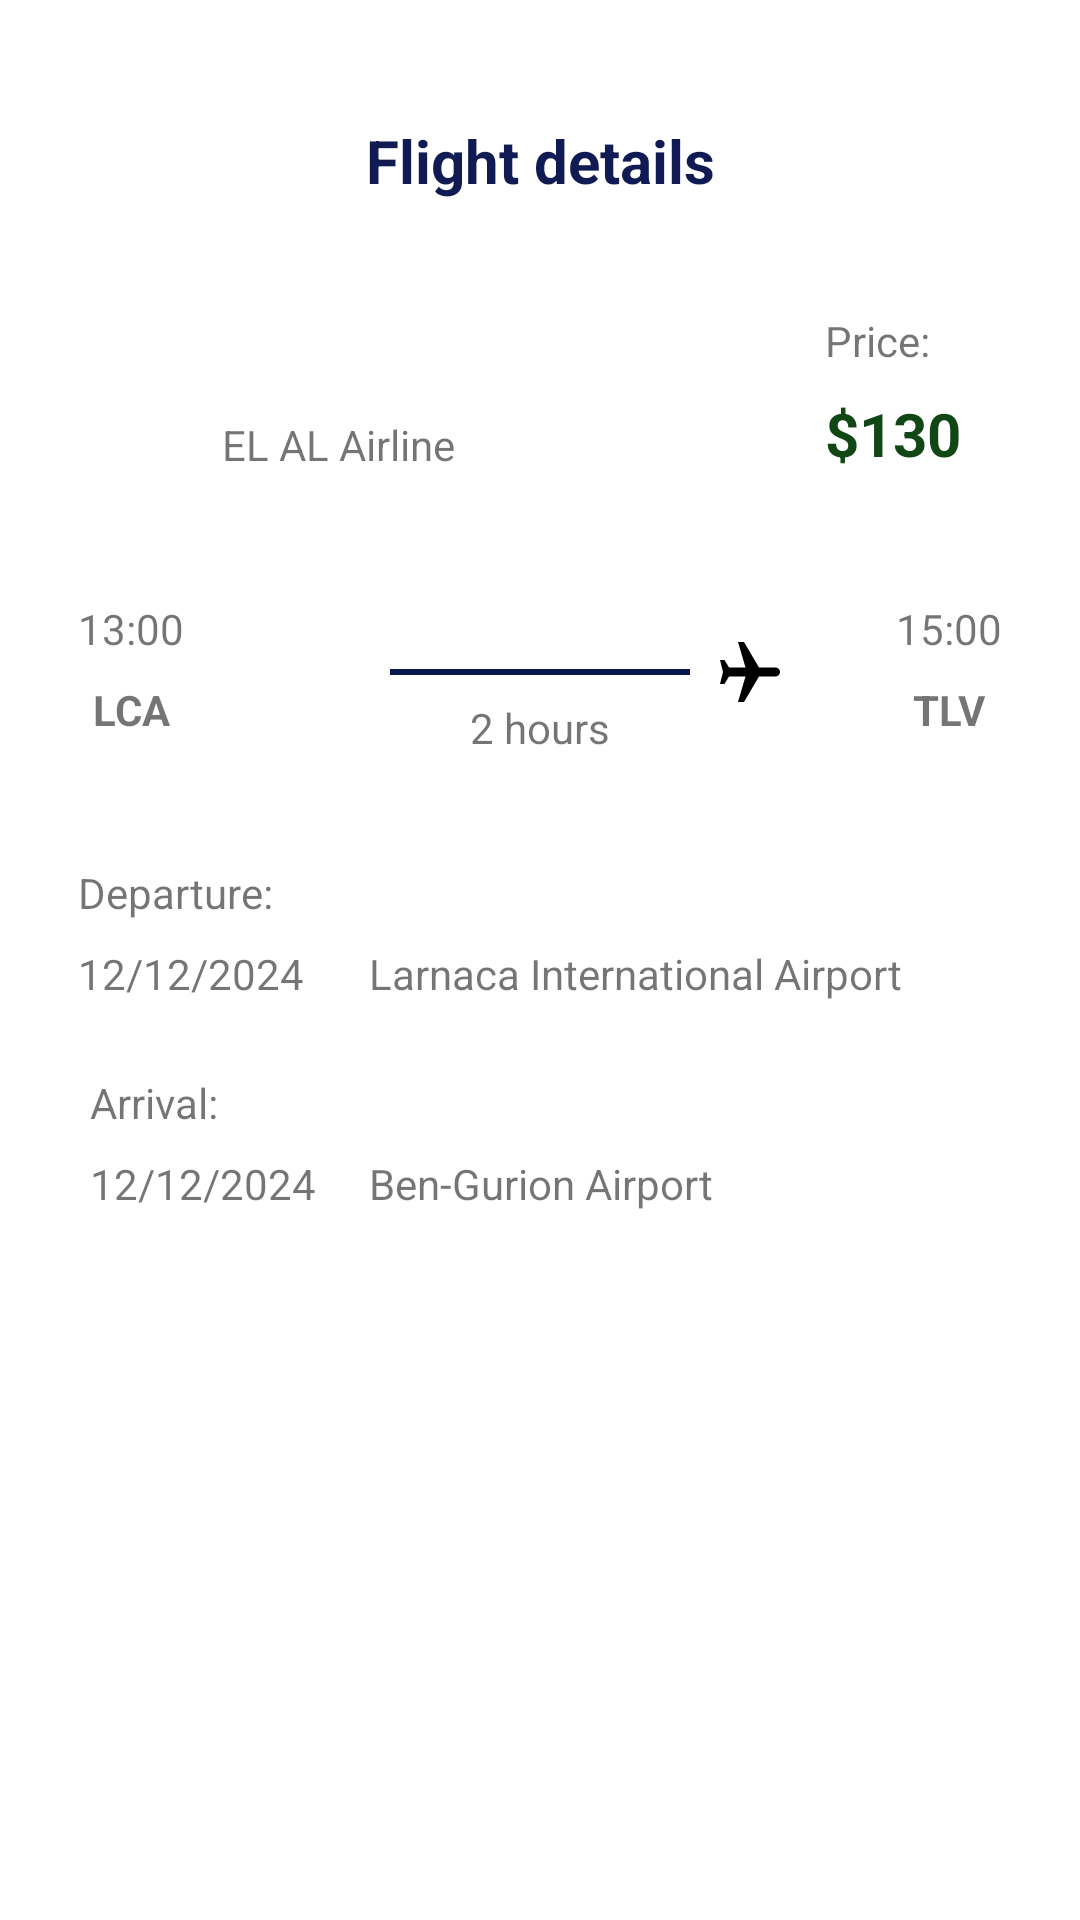

Icon bounding boxes for this 1080*1920 phone screenshot, format (x1, y1, x2, y2):
right aiplane: (720, 642, 780, 702)
